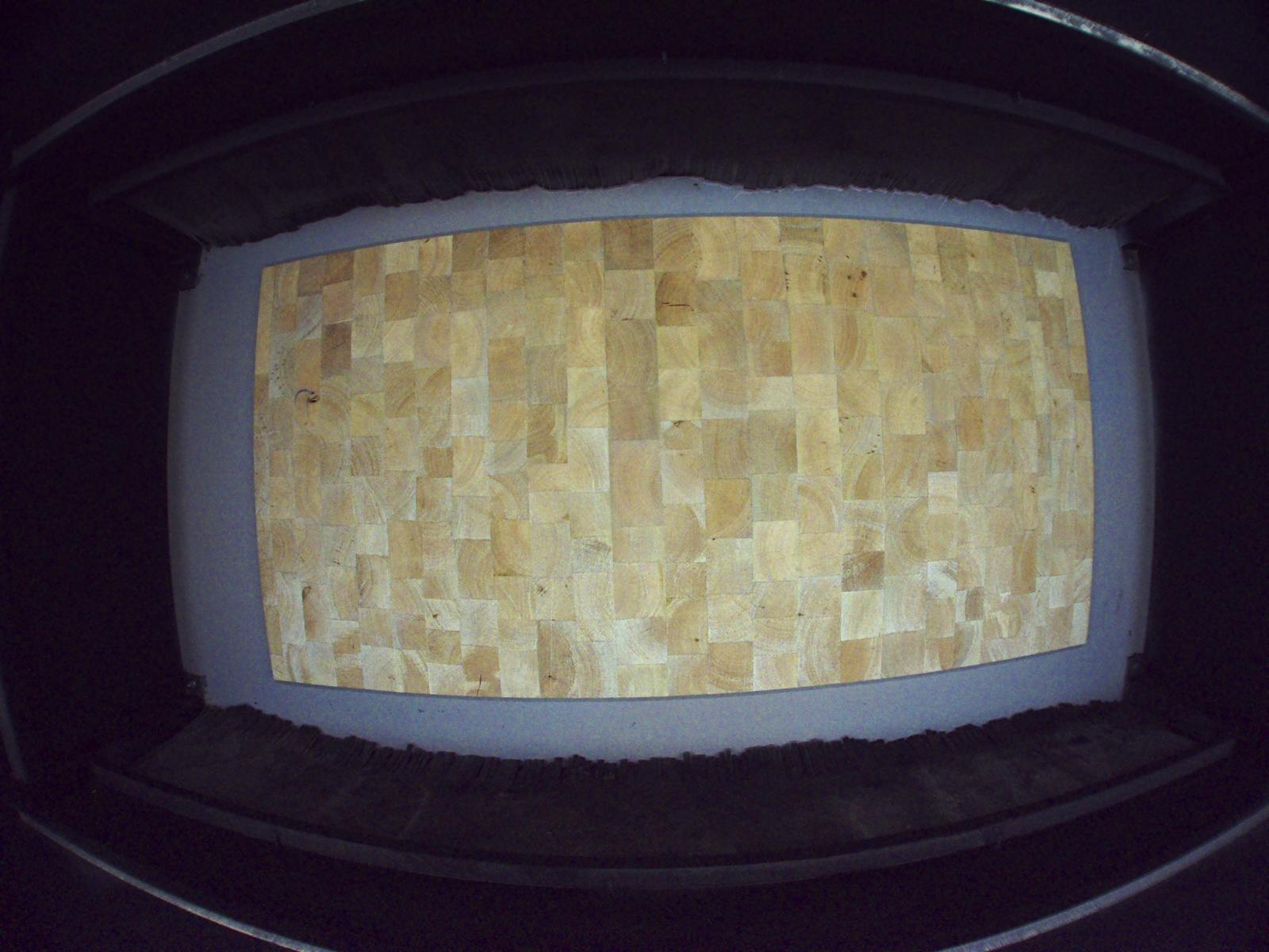nudillo: (305, 390, 322, 404)
